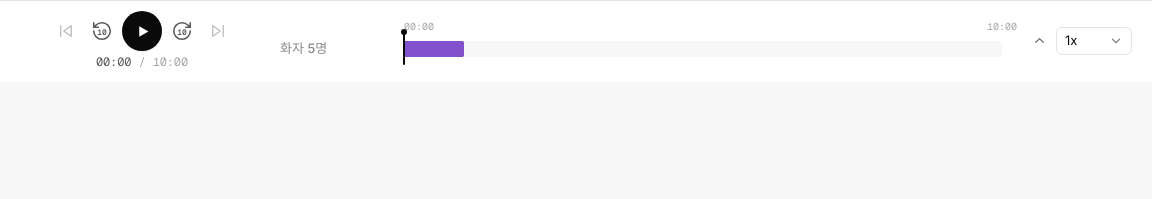
Test case: 화자가 넷 이상이면 한 줄로 접힌 채 시작하고, 펼칠 수 있다
Check: the element showing "화자 5명" is shown, box [280, 35, 1002, 62]
Check: the text "화자 5명" is shown, box [280, 40, 327, 56]
Click the button named "화자별로 펼치기": (1039, 40) [1026, 28, 1052, 54]
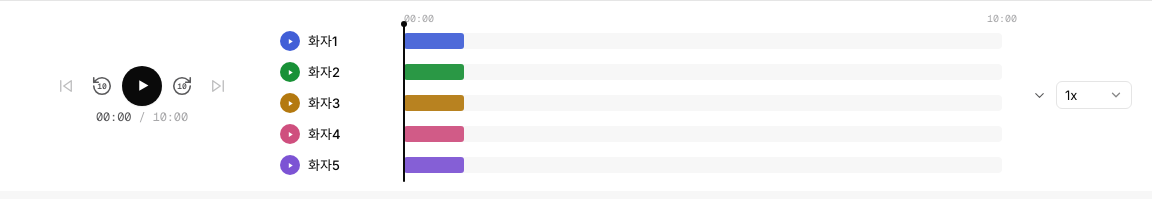
Check: the button named "화자1 구간 재생" is shown, box [280, 31, 300, 51]
Check: the button named "한 줄로 접기" is shown, box [1026, 82, 1052, 108]
